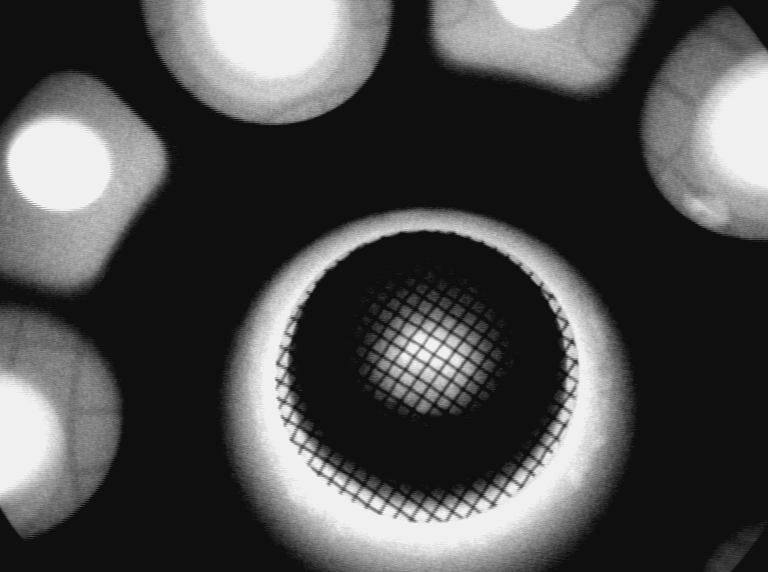defect: (678, 186, 735, 233)
